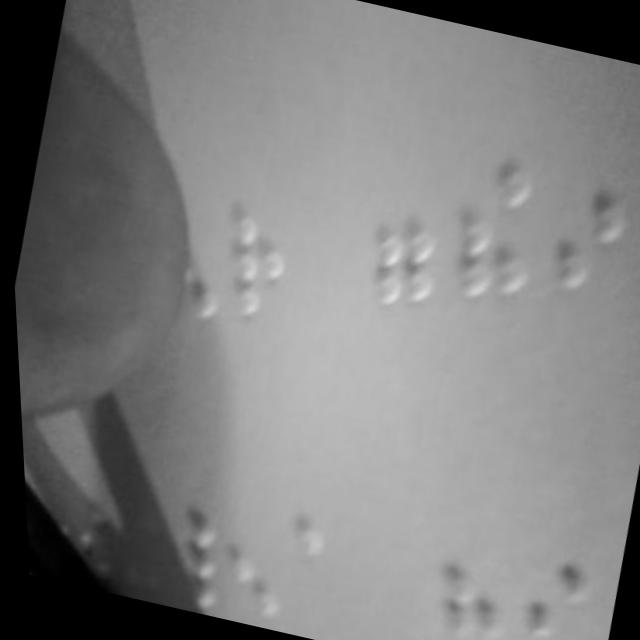braiile: (432, 148, 558, 316), (534, 142, 640, 302), (350, 170, 457, 320), (199, 206, 305, 344), (499, 504, 604, 640), (418, 506, 523, 640), (201, 499, 295, 628), (565, 506, 629, 630), (622, 143, 640, 290)
